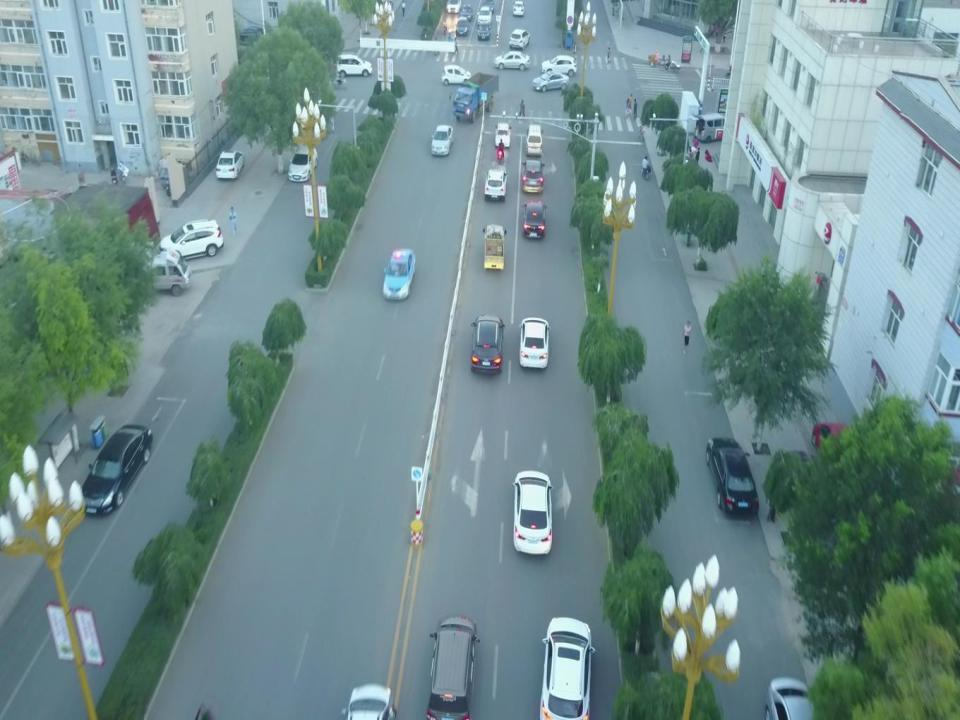car: (78, 423, 153, 514), (537, 613, 598, 720), (429, 612, 479, 720), (707, 436, 759, 516), (514, 470, 554, 554), (157, 218, 223, 259), (469, 314, 505, 374), (518, 316, 550, 371), (383, 248, 415, 300), (289, 146, 318, 181), (523, 199, 546, 241), (521, 160, 547, 192), (336, 54, 373, 76), (533, 71, 570, 93), (217, 150, 243, 180), (494, 50, 531, 71), (483, 167, 507, 198), (540, 55, 576, 75), (234, 25, 264, 47), (430, 126, 453, 154), (442, 65, 471, 86), (509, 28, 529, 48), (496, 121, 511, 146), (478, 5, 492, 24), (455, 17, 469, 35), (460, 4, 474, 20), (478, 23, 490, 40), (513, 0, 525, 16)
truck: (120, 250, 194, 296), (451, 72, 499, 124), (484, 224, 506, 270)
van: (690, 113, 729, 142), (525, 124, 545, 156)
